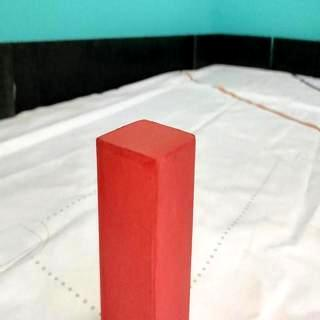redbox: (96, 117, 195, 320)
